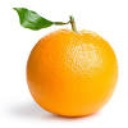orange: (12, 5, 122, 120)
